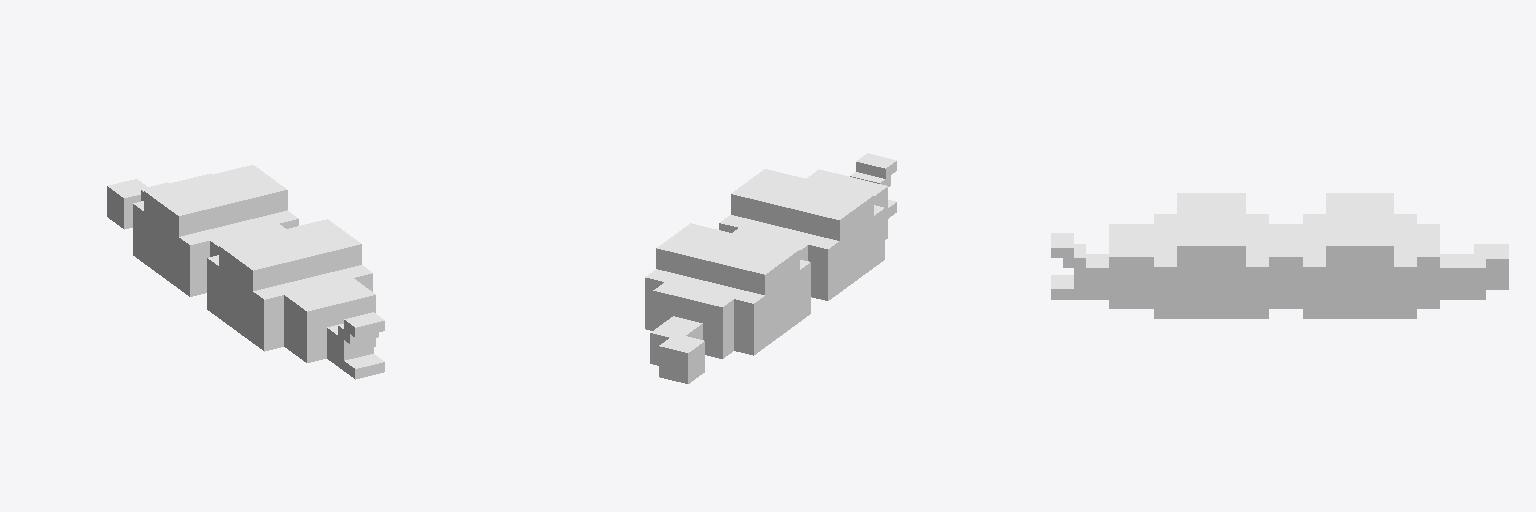
File: BigAcidRatSpit.obj
3 views of the same model, side by side, from view 1: azimuth 30°, elevation 25°; view 2: azimuth 150°, elevation 25°; view 3: azimuth 270°, elevation 25° (orthographic).
Size of the model in its own units: 11 by 7 by 40.